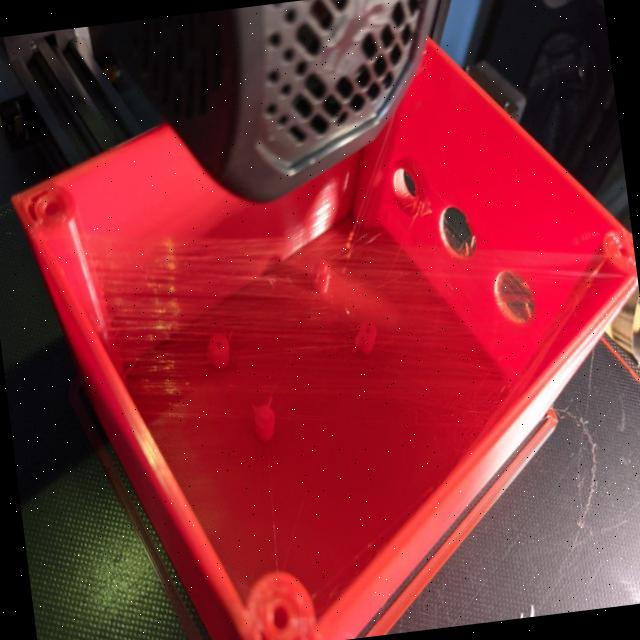stringing: (80, 230, 597, 422)
